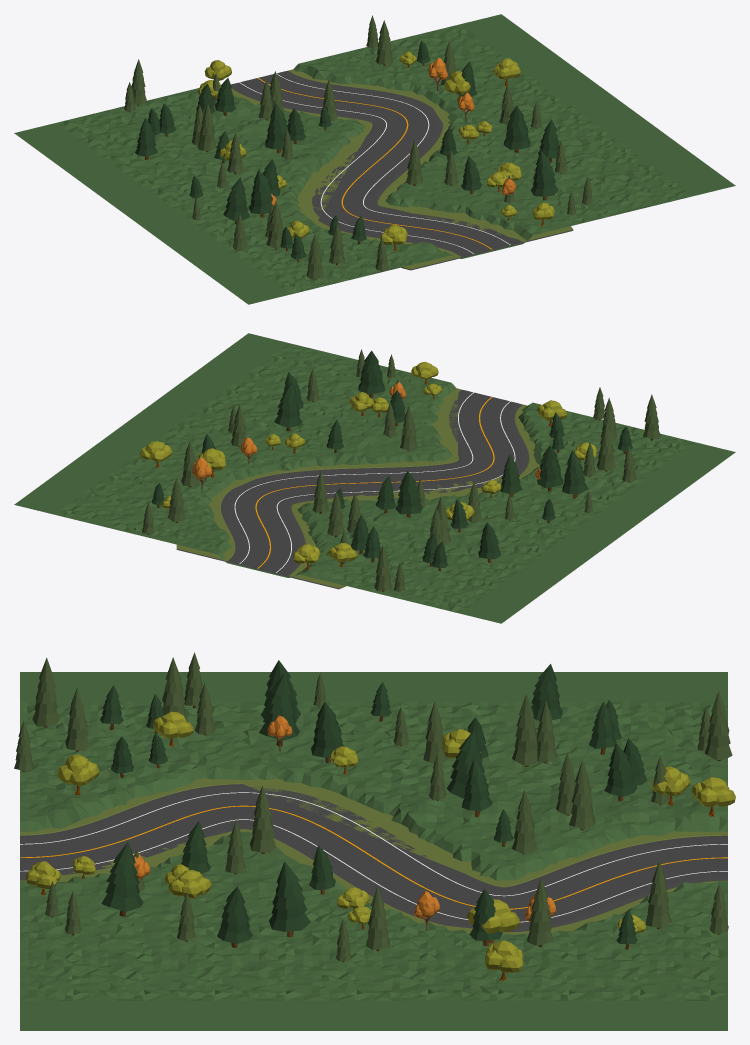
File: ForestRoadStraight2.fbx
The picture shows the model from 3 angles, top to bottom: view 1: azimuth 30°, elevation 25°; view 2: azimuth 150°, elevation 25°; view 3: azimuth 270°, elevation 25°; orthographic projection. The views are drawn at different scales.
Parts seen in each view (by area): view 1: FRS2Plane, FRS2Road, FRS2Plane|pineTree04|Dupli|11, FRS2Plane|pineTree04|Dupli|26, FRS2Plane|pineTree04|Dupli|27, FRS2Plane|pineTree04|Dupli|44, FRS2Plane|pineTree04|Dupli|29, FRS2Plane|pineTree04|Dupli|58, FRS2Plane|pineTree05|Dupli|56, FRS2Plane|pineTree04|Dupli|28, FRS2Plane|pineTree05|Dupli|21, FRS2Plane|pineTree05|Dupli|7 (+4 smaller); view 2: FRS2Plane, FRS2Road, FRS2Plane|pineTree04|Dupli|26, FRS2Plane|pineTree04|Dupli|44, FRS2Plane|pineTree04|Dupli|11, FRS2Plane|pineTree04|Dupli|27, FRS2Plane|pineTree04|Dupli|29, FRS2Plane|pineTree05|Dupli|21, FRS2Plane|pineTree04|Dupli|58, FRS2Plane|pineTree04|Dupli|31, FRS2Plane|pineTree05|Dupli|70, FRS2Plane|oakTree|Dupli|50 (+5 smaller); view 3: FRS2Plane, FRS2Road, FRS2Plane|pineTree04|Dupli|26, FRS2Plane|pineTree04|Dupli|11, FRS2Plane|pineTree04|Dupli|27, FRS2Plane|pineTree04|Dupli|28, FRS2Plane|pineTree05|Dupli|56, FRS2Plane|pineTree04|Dupli|31, FRS2Plane|pineTree05|Dupli|7, FRS2Plane|pineTree04|Dupli|44, FRS2Plane|pineTree05|Dupli|70, FRS2Plane|pineTree05|Dupli|52 (+31 smaller).
Boxes of the visible parts, x1,y1,x2,y2 form: FRS2Plane: [14, 14, 735, 304]; FRS2Road: [231, 69, 573, 270]; FRS2Plane|pineTree04|Dupli|11: [531, 151, 558, 200]; FRS2Plane|pineTree04|Dupli|26: [503, 105, 530, 152]; FRS2Plane|pineTree04|Dupli|27: [248, 169, 273, 217]; FRS2Plane|pineTree04|Dupli|44: [265, 103, 291, 153]; FRS2Plane|pineTree04|Dupli|29: [223, 177, 249, 223]; FRS2Plane|pineTree04|Dupli|58: [135, 117, 158, 159]; FRS2Plane|pineTree05|Dupli|56: [198, 103, 216, 152]; FRS2Plane|pineTree04|Dupli|28: [538, 119, 559, 162]; FRS2Plane|pineTree05|Dupli|21: [266, 200, 283, 249]; FRS2Plane|pineTree05|Dupli|7: [306, 234, 323, 280]; FRS2Plane: [14, 333, 735, 623]; FRS2Road: [176, 388, 539, 589]; FRS2Plane|pineTree04|Dupli|26: [274, 381, 302, 431]; FRS2Plane|pineTree04|Dupli|44: [395, 471, 423, 517]; FRS2Plane|pineTree04|Dupli|11: [358, 350, 384, 397]; FRS2Plane|pineTree04|Dupli|27: [537, 445, 562, 491]; FRS2Plane|pineTree04|Dupli|29: [562, 450, 587, 498]; FRS2Plane|pineTree05|Dupli|21: [597, 422, 615, 471]; FRS2Plane|pineTree04|Dupli|58: [478, 522, 500, 562]; FRS2Plane|pineTree04|Dupli|31: [500, 454, 522, 497]; FRS2Plane|pineTree05|Dupli|70: [374, 545, 392, 592]; FRS2Plane|oakTree|Dupli|50: [139, 441, 172, 467]; FRS2Plane: [20, 672, 727, 1030]; FRS2Road: [20, 778, 727, 934]; FRS2Plane|pineTree04|Dupli|26: [269, 861, 310, 937]; FRS2Plane|pineTree04|Dupli|11: [101, 842, 143, 916]; FRS2Plane|pineTree04|Dupli|27: [259, 672, 299, 746]; FRS2Plane|pineTree04|Dupli|28: [217, 886, 252, 947]; FRS2Plane|pineTree05|Dupli|56: [512, 693, 539, 766]; FRS2Plane|pineTree04|Dupli|31: [311, 702, 343, 762]; FRS2Plane|pineTree05|Dupli|7: [32, 657, 59, 727]; FRS2Plane|pineTree04|Dupli|44: [446, 730, 484, 798]; FRS2Plane|pineTree05|Dupli|70: [705, 691, 732, 761]; FRS2Plane|pineTree05|Dupli|52: [569, 760, 595, 830].
Size of what is drawn, in the model's own units: 24002 by 2580 by 20396.
